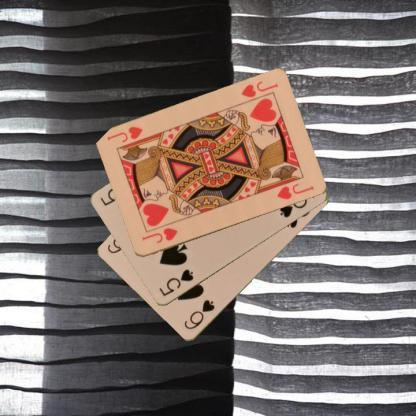5s: (156, 266, 195, 298)
6s: (182, 297, 216, 331)
Jh: (239, 78, 279, 100), (138, 225, 178, 245)
